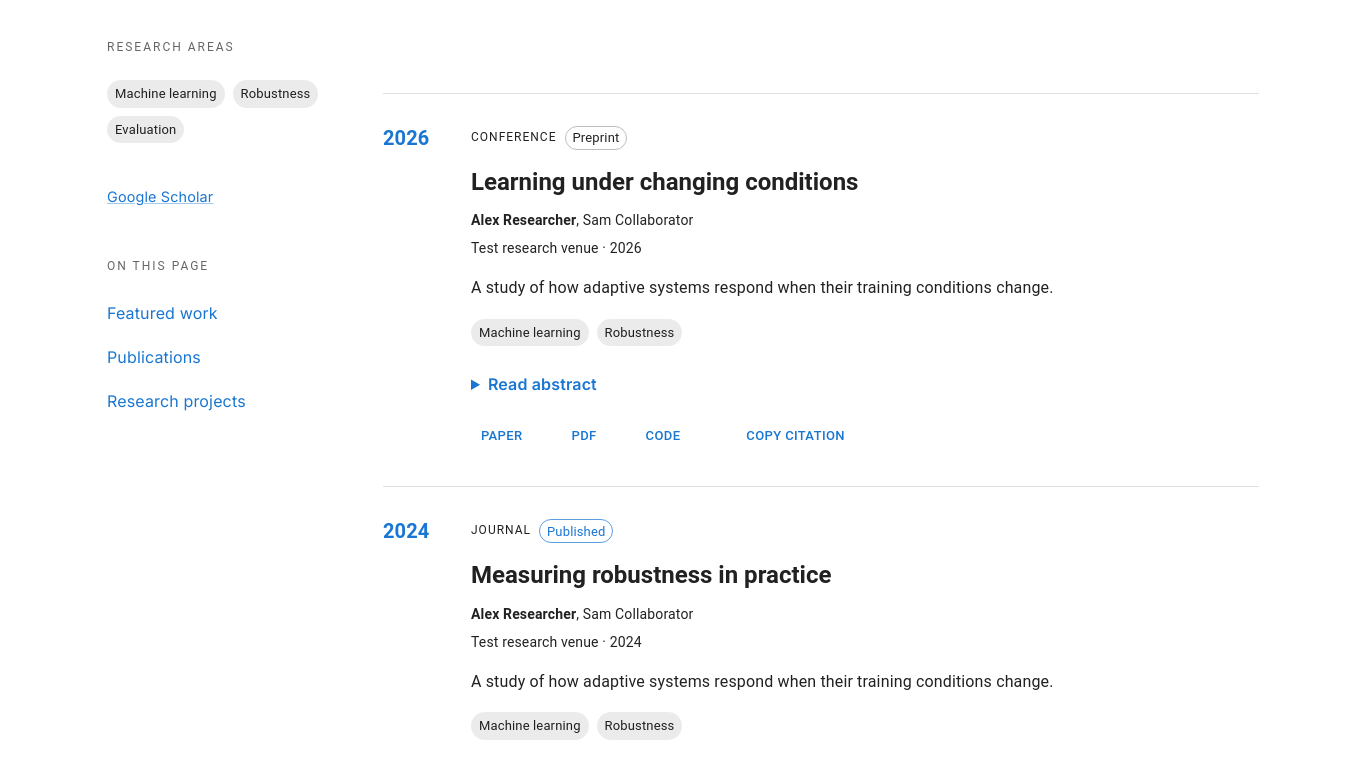
shows an inline abstract disclosure and copies only the supplied citation
(page scrolled)
Click the heading "Read abstract" at (542, 384), box [488,374,597,394]
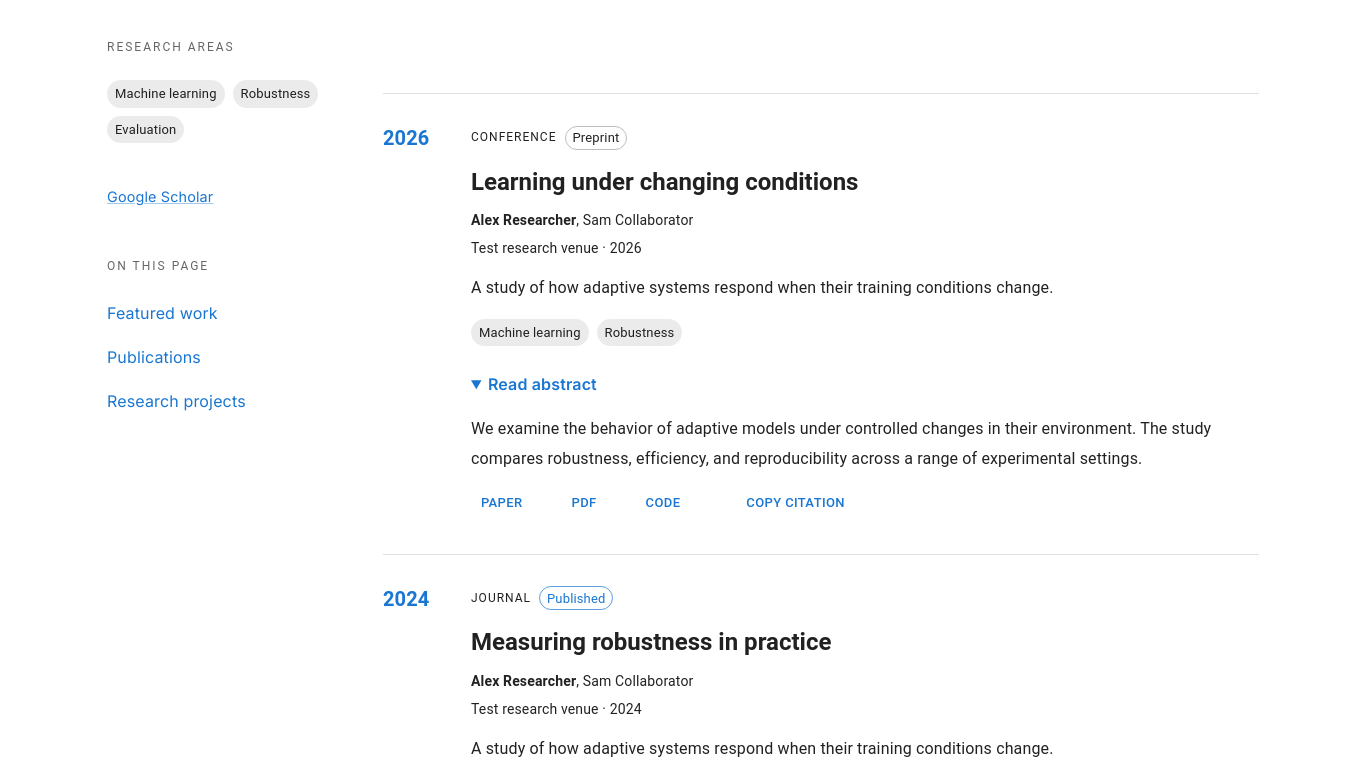
Now the text "Read abstract" has attribute open, box [471,362,1259,474]
Click the button "Copy citation" at (785, 504), box [719,482,850,526]
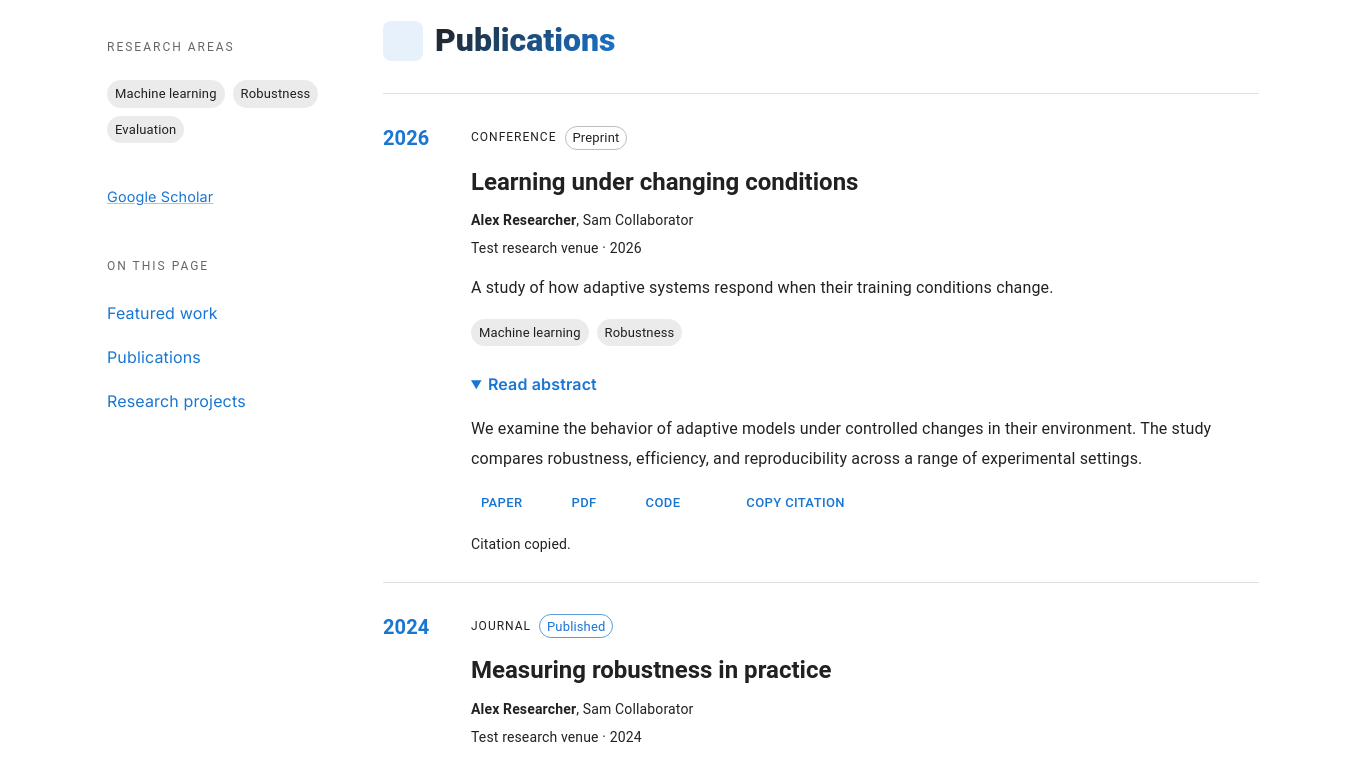
Now the text "Citation copied." is shown, box [471,536,571,552]
